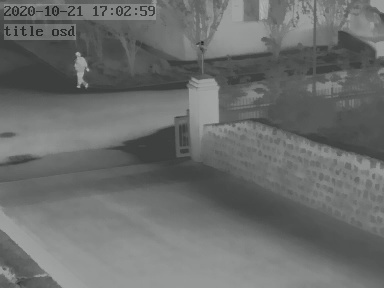person: (72, 49, 89, 88)
